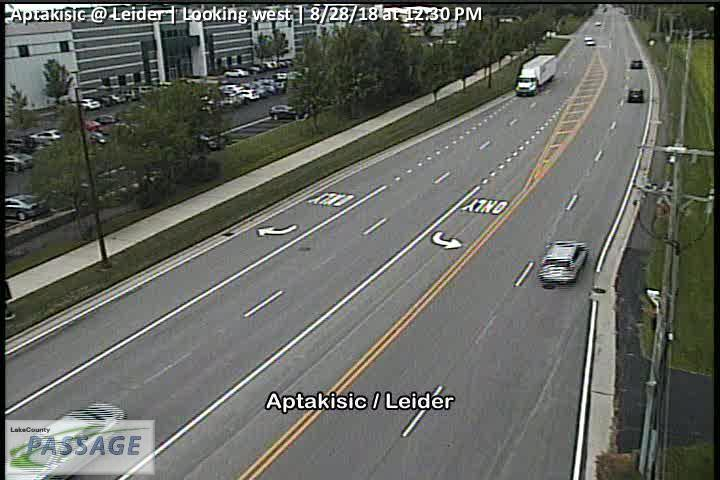SUV: (539, 240, 589, 284)
Sedan: (5, 404, 126, 480), (5, 194, 48, 221), (266, 104, 306, 118), (5, 154, 35, 171), (31, 129, 64, 141), (239, 90, 260, 102), (78, 98, 99, 108), (223, 68, 249, 76), (629, 88, 643, 102), (583, 35, 595, 46), (630, 60, 642, 68)
Truck: (514, 54, 557, 95)
